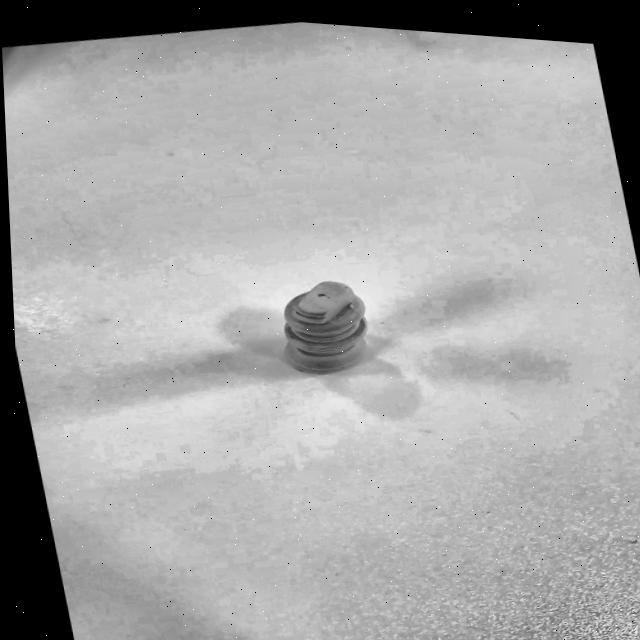white-king: (230, 251, 430, 415)
